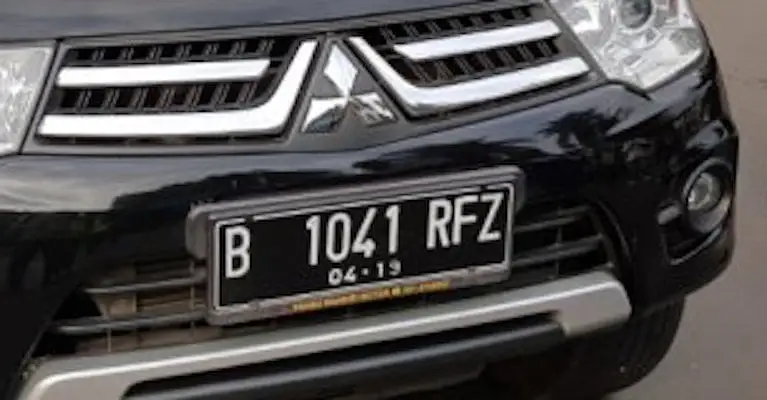plate: (210, 190, 510, 286)
